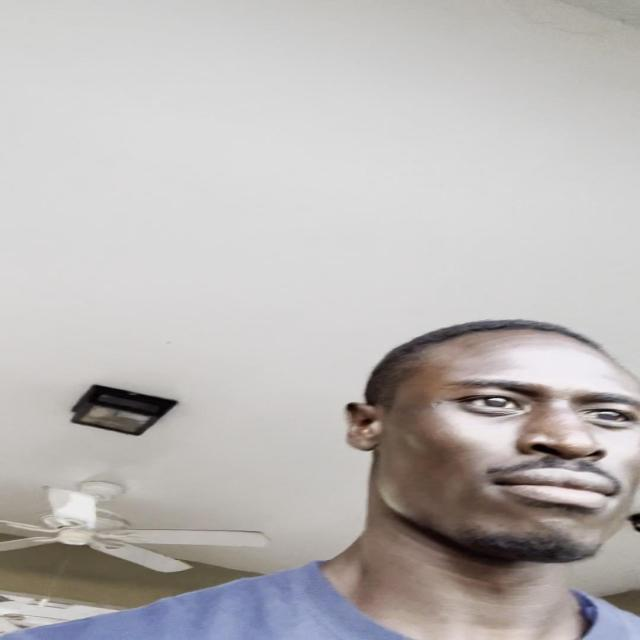NO-Mask: (362, 326, 640, 579)
